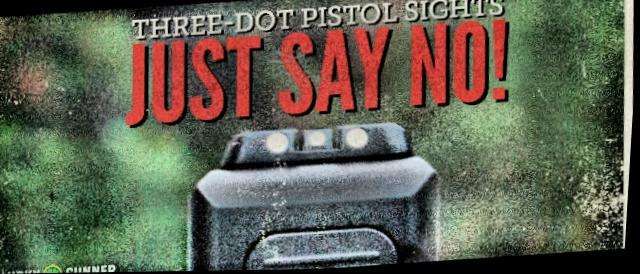pistol: (184, 118, 448, 272)
